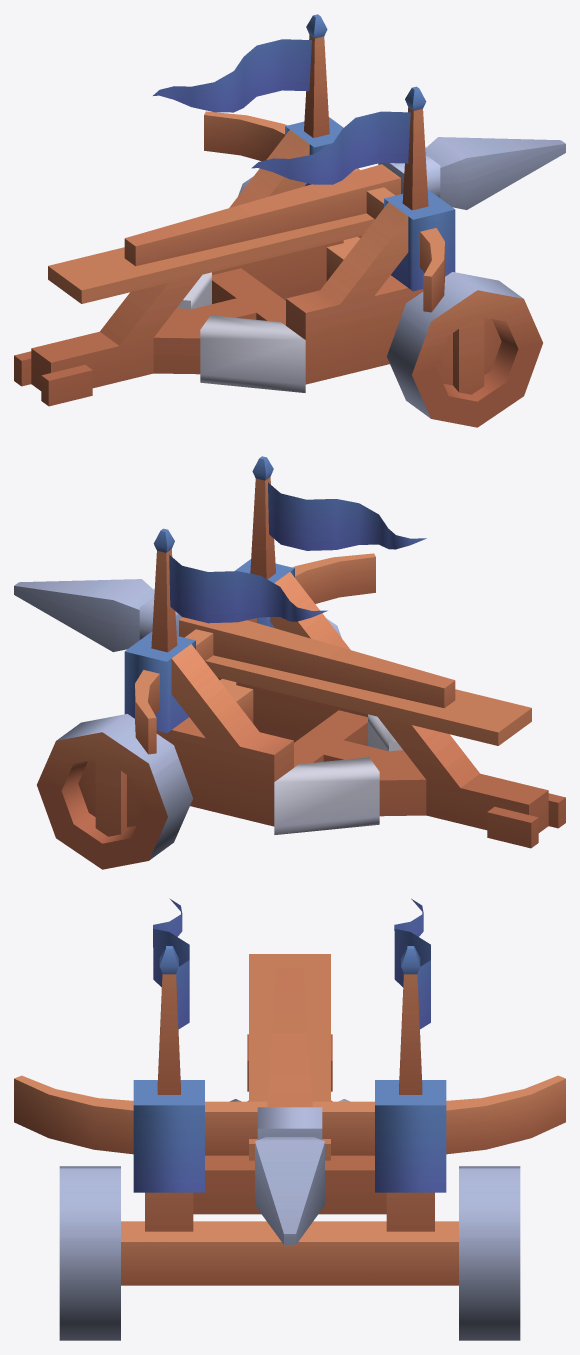
Rendered from k-castle-siege-ballista.glb.
3 views of the same model, one above another, from view 1: azimuth 30°, elevation 25°; view 2: azimuth 150°, elevation 25°; view 3: azimuth 270°, elevation 25° (orthographic). The views are drawn at different scales.
Parts seen in each view (by area): view 1: siege-ballista, wheel, arrow; view 2: siege-ballista, wheel, arrow; view 3: siege-ballista, wheel (×2), arrow.
Boxes of the visible parts, bbox=[...] form: siege-ballista: bbox=[14, 14, 455, 406]; wheel: bbox=[387, 272, 542, 427]; arrow: bbox=[124, 137, 565, 266]; siege-ballista: bbox=[124, 456, 565, 848]; wheel: bbox=[37, 714, 192, 869]; arrow: bbox=[14, 579, 455, 708]; siege-ballista: bbox=[14, 898, 565, 1285]; wheel (×2): bbox=[59, 1166, 520, 1340]; arrow: bbox=[255, 968, 324, 1244].
Bounding box in the file's own units: 1.63 × 0.9103 × 1.2.
1 material, 1 textured.
